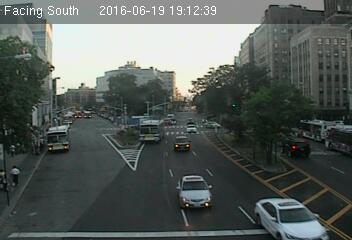neg: (148, 129, 169, 158), (214, 134, 234, 160), (52, 141, 71, 166), (91, 131, 107, 151)
pos: (6, 164, 23, 188), (4, 143, 15, 159)
